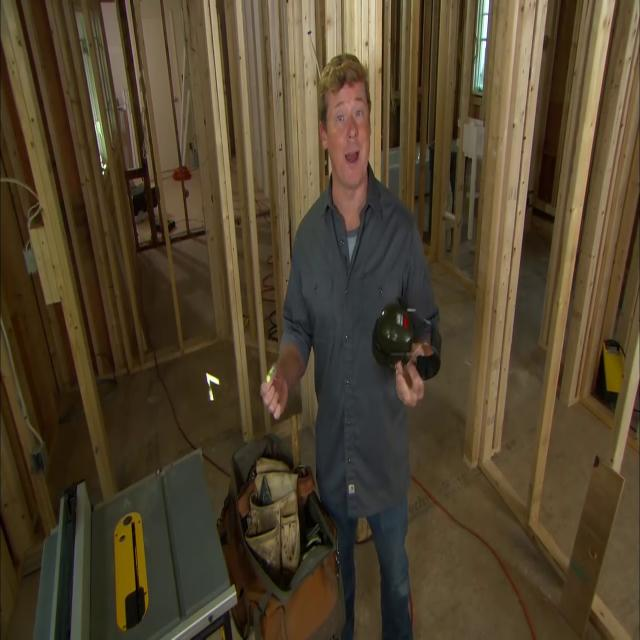earmuff: (369, 300, 416, 364)
